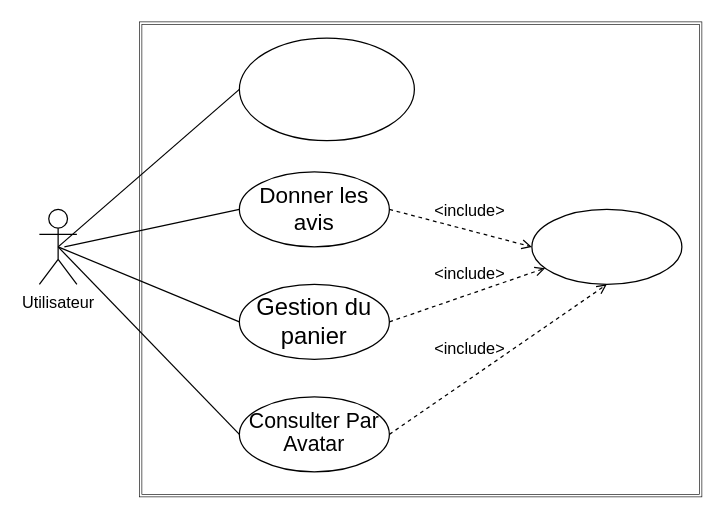
Some shapes in this 724 by 519 pixel diagram are drawn without their labels. The centre of each missing label's shape, as x and y in pixels:
Gestion les commandes clients: point (326, 89)
S’authentifier: point (606, 246)
